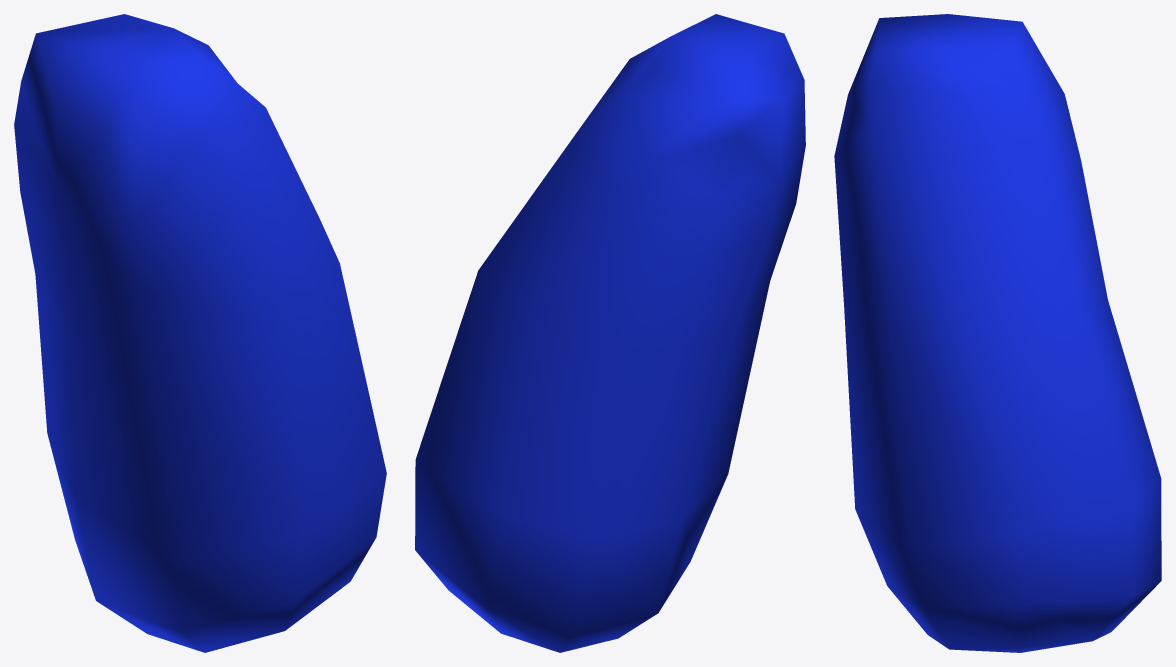
Rendered from Overcoat leftupper.fbx.
3 renders of one model, left to right at view 1: azimuth 30°, elevation 25°; view 2: azimuth 150°, elevation 25°; view 3: azimuth 270°, elevation 25°, orthographic. The views are drawn at different scales.
Parts seen in each view (by area): view 1: LeftUpperLongSleeve.002; view 2: LeftUpperLongSleeve.002; view 3: LeftUpperLongSleeve.002.
Part boxes in pixels (x1,y1,x2,y2): LeftUpperLongSleeve.002: (14, 14, 386, 652); LeftUpperLongSleeve.002: (415, 14, 805, 652); LeftUpperLongSleeve.002: (834, 14, 1161, 652).
Size of the model in its own units: 26.62 by 49.47 by 26.14.
